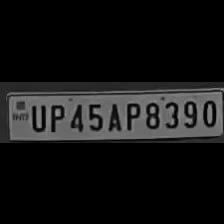0: (200, 96, 218, 126)
3: (162, 97, 178, 128)
4: (66, 99, 84, 130)
5: (86, 99, 104, 130)
8: (142, 97, 160, 129)
9: (180, 96, 198, 128)
A: (104, 99, 122, 130)
P: (46, 100, 64, 132), (122, 98, 140, 130)
U: (27, 101, 45, 131)
